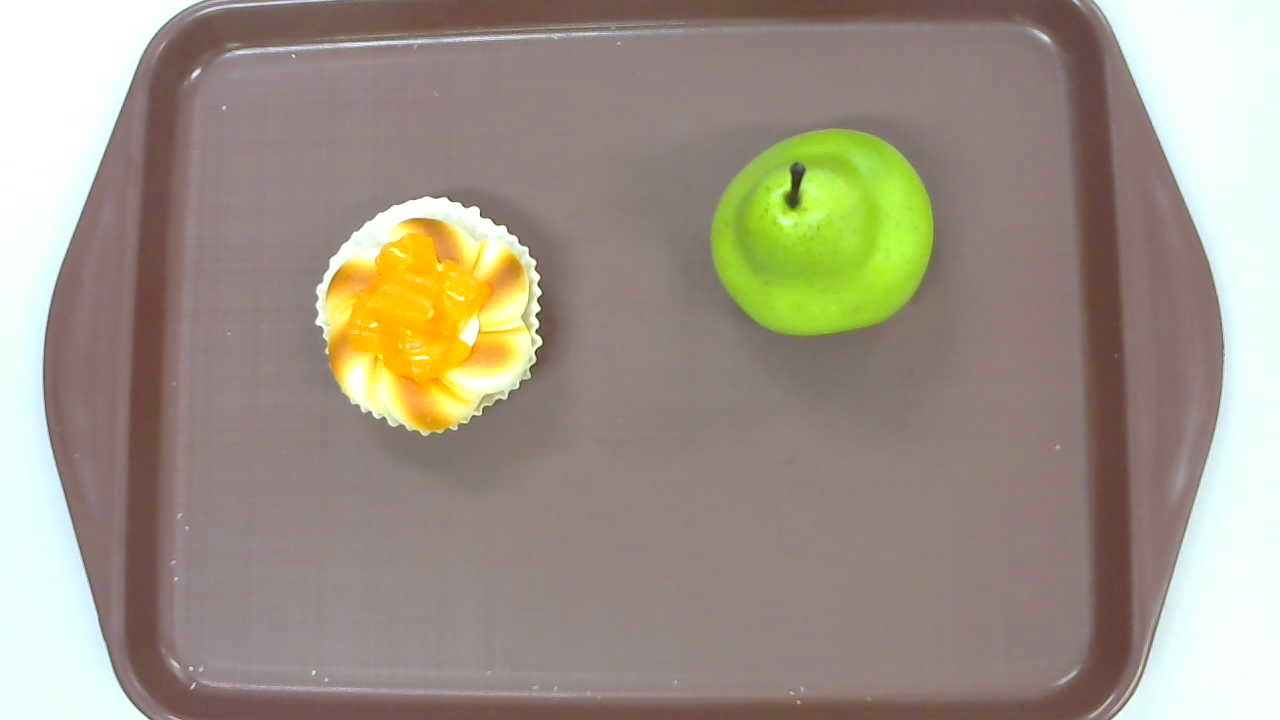green pear: (711, 126, 935, 335)
mango tart: (313, 197, 545, 438)
